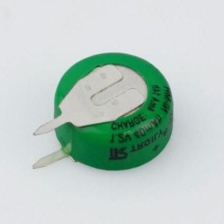battery: (28, 49, 178, 174)
